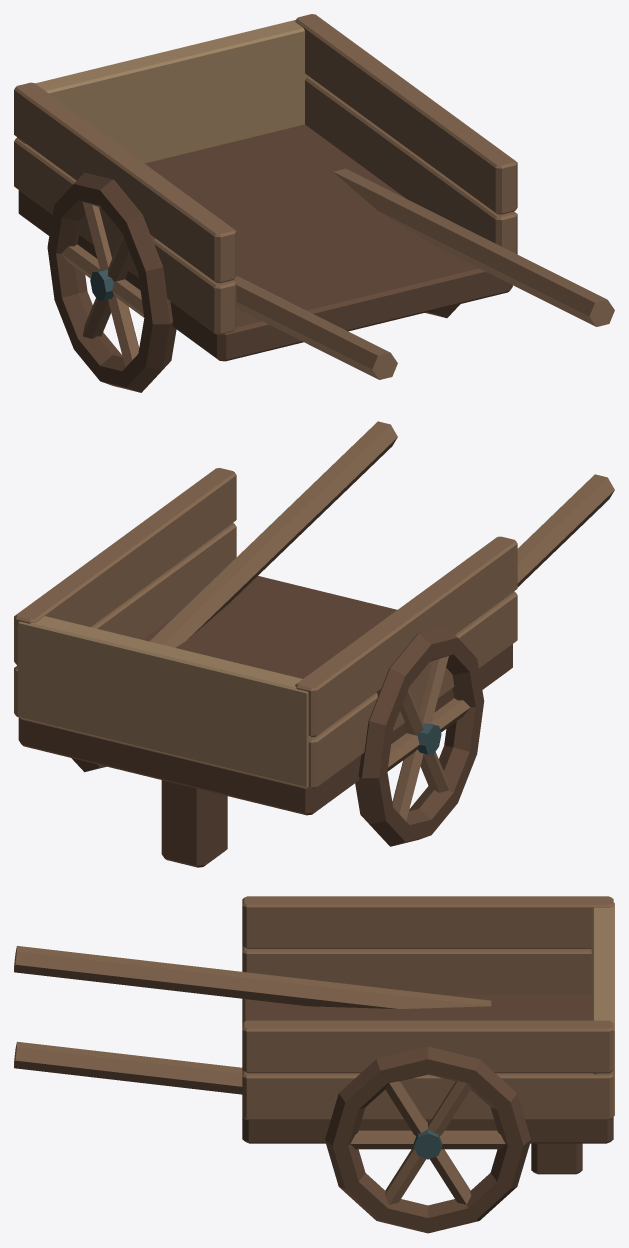
File: handcart.glb
The picture shows the model from 3 angles, top to bottom: view 1: azimuth 30°, elevation 25°; view 2: azimuth 150°, elevation 25°; view 3: azimuth 270°, elevation 25°; orthographic projection. The views are drawn at different scales.
Visible parts, largest first — view 1: handcart__body; view 2: handcart__body; view 3: handcart__body.
Part boxes in pixels (bbox=[...]): handcart__body: bbox=[14, 14, 614, 392]; handcart__body: bbox=[14, 421, 614, 867]; handcart__body: bbox=[14, 896, 614, 1233].
Size of the model in its own units: 0.68 by 0.435 by 1.17.
